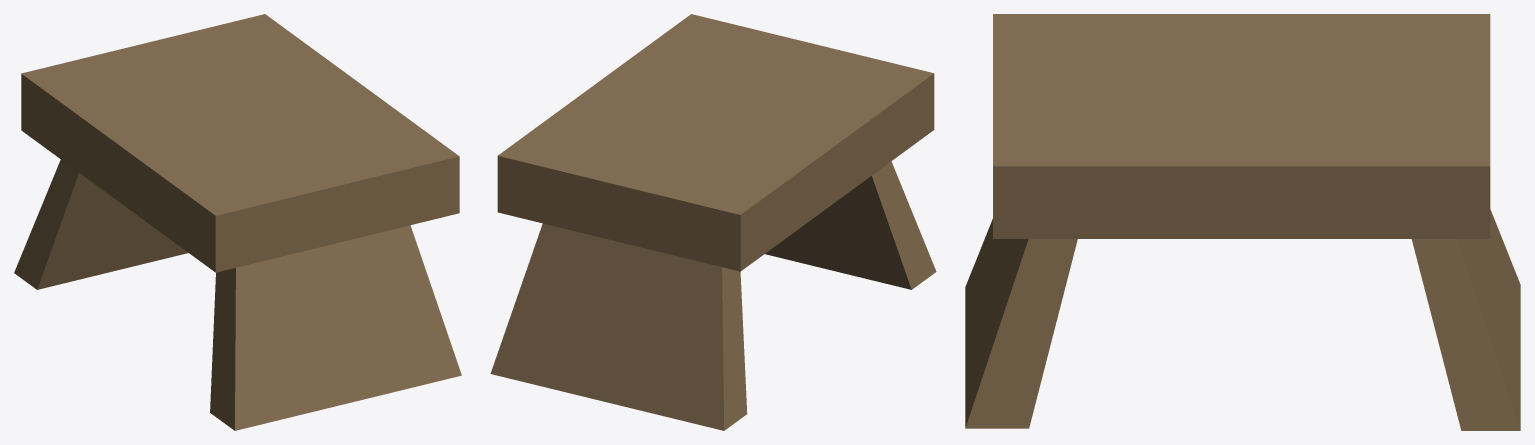
Rendered from Taburete.fbx.
The picture shows the model from 3 angles, left to right: view 1: azimuth 30°, elevation 25°; view 2: azimuth 150°, elevation 25°; view 3: azimuth 270°, elevation 25°; orthographic projection. The views are drawn at different scales.
Visible parts, largest first — view 1: Cube; view 2: Cube; view 3: Cube.
Part boxes in pixels (left/top/right/bottom): Cube: left=14, top=14, right=461, bottom=430; Cube: left=490, top=14, right=936, bottom=430; Cube: left=965, top=14, right=1520, bottom=430.
Size of the model in its own units: 114 by 93.72 by 176.
